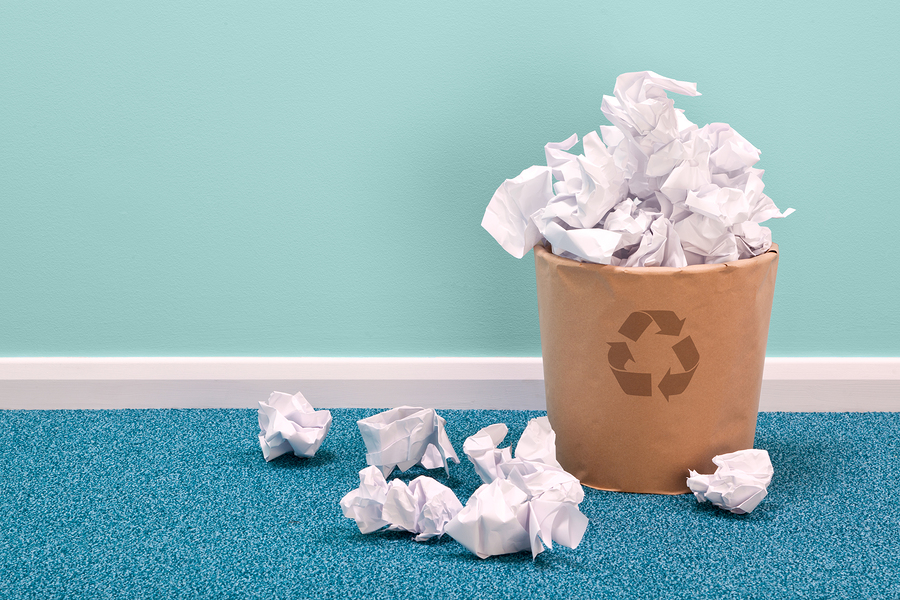paper: (446, 473, 590, 566), (339, 462, 466, 544), (352, 403, 461, 477), (683, 444, 778, 524), (459, 412, 580, 474), (253, 385, 335, 466)
